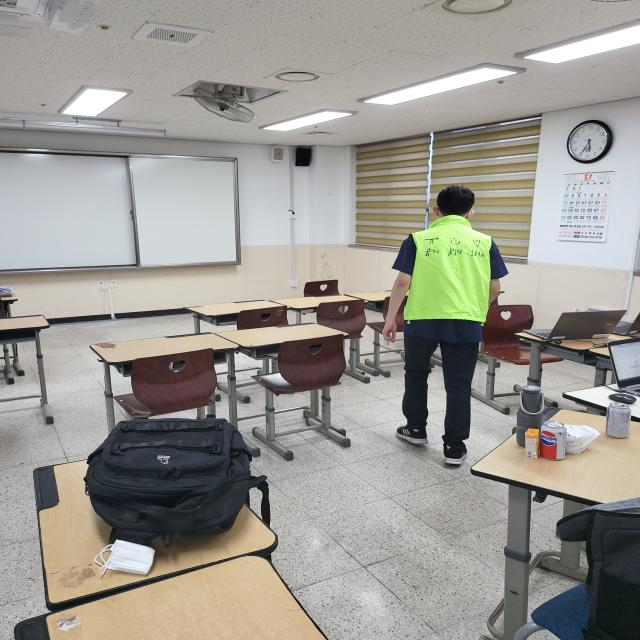weston_spy: (396, 212, 496, 327)
